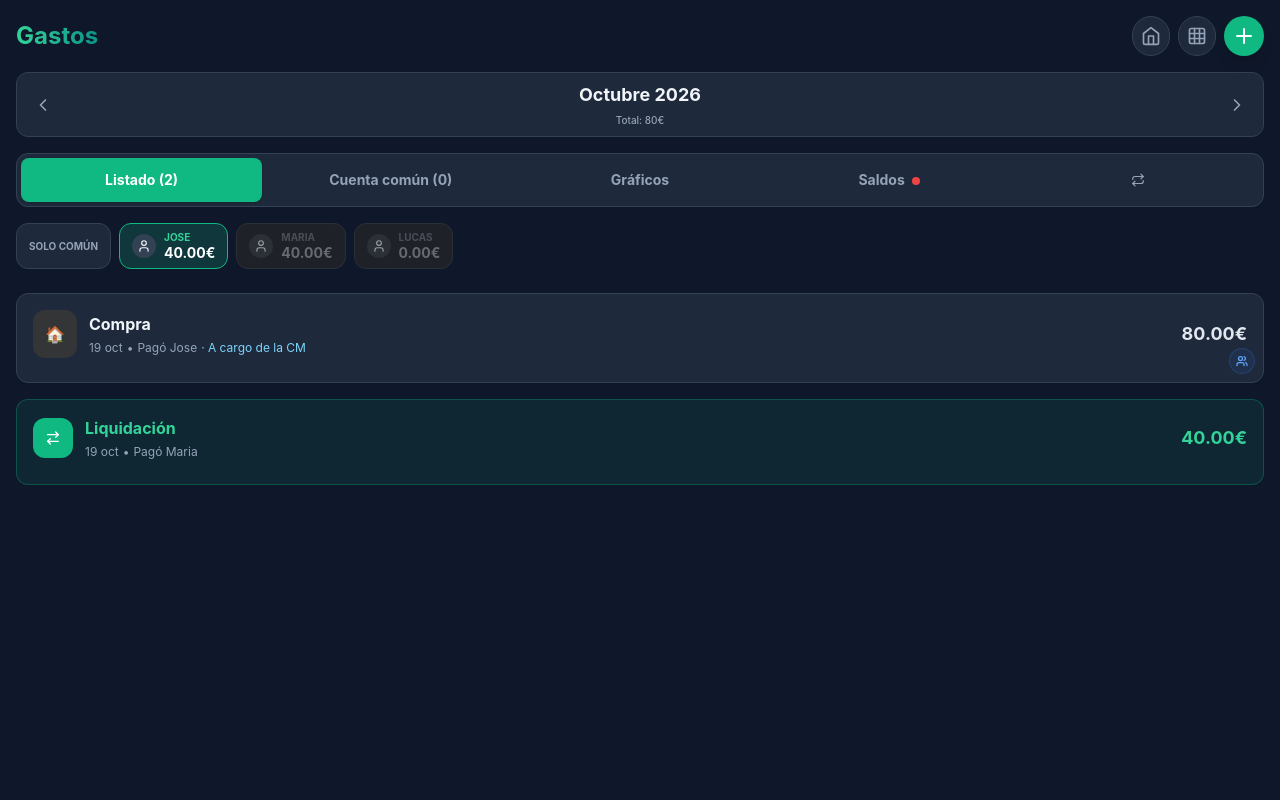
it: Expenses Financial Core › retains previous personal settlements when moving their original expense to CM
Click the button "Saldos" at (889, 180), box [769,158,1010,202]
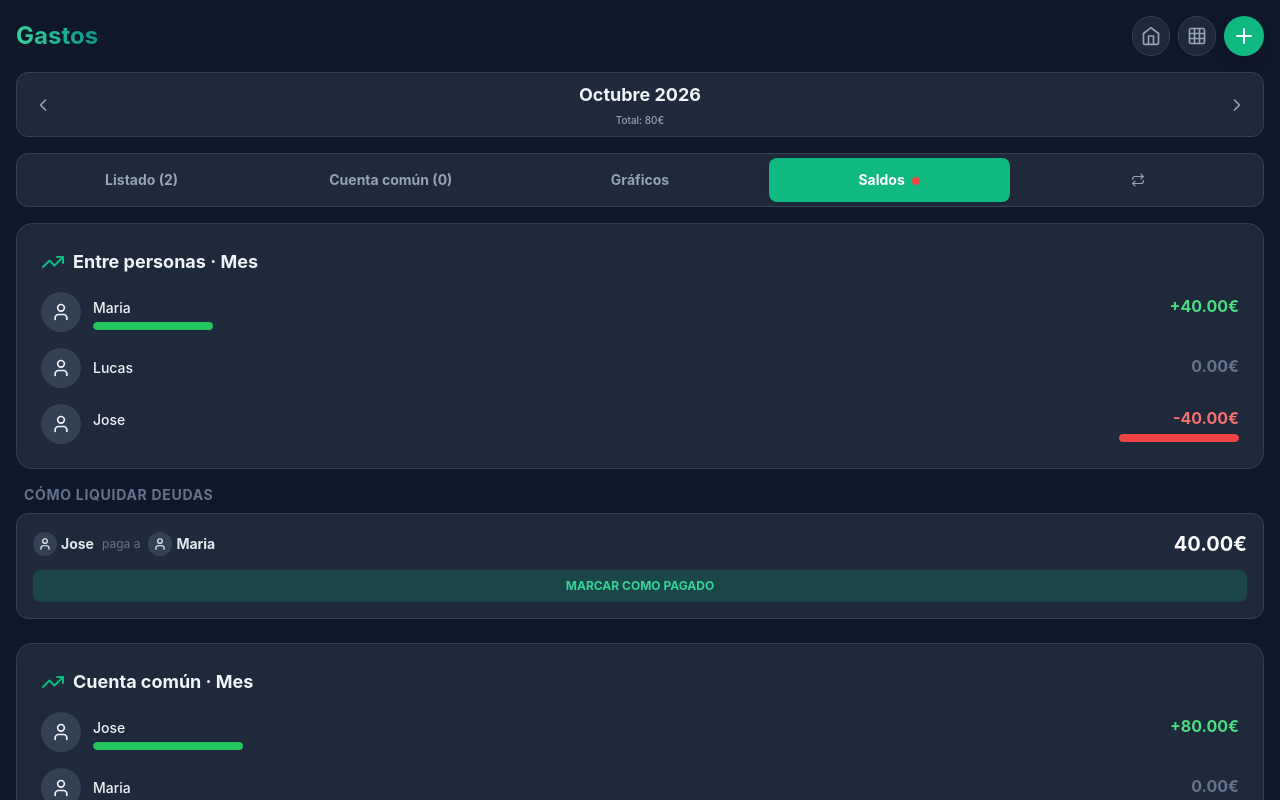
expect the text "+80.00€" is shown: met, box [1170,714,1239,738]
expect the text "-40.00€" is shown: met, box [1173,406,1239,430]
expect the text "+40.00€" is shown: met, box [1170,294,1239,318]
